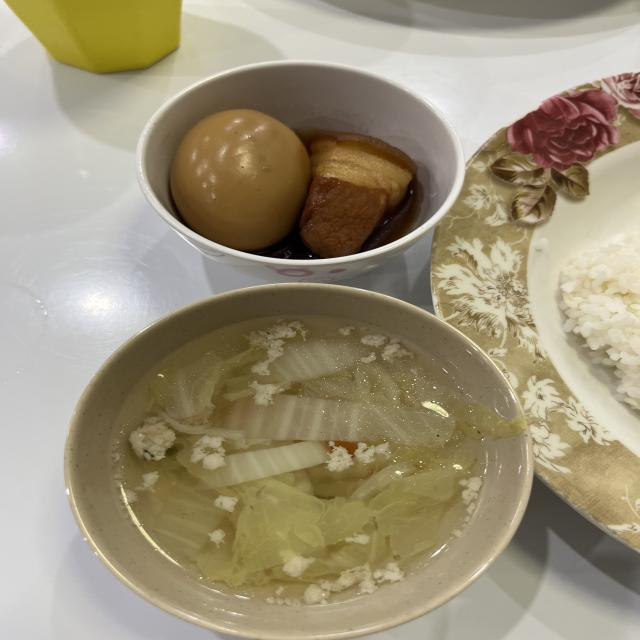canh cai: (116, 319, 526, 605)
com: (560, 233, 640, 409)
kho trung: (170, 109, 414, 258)
